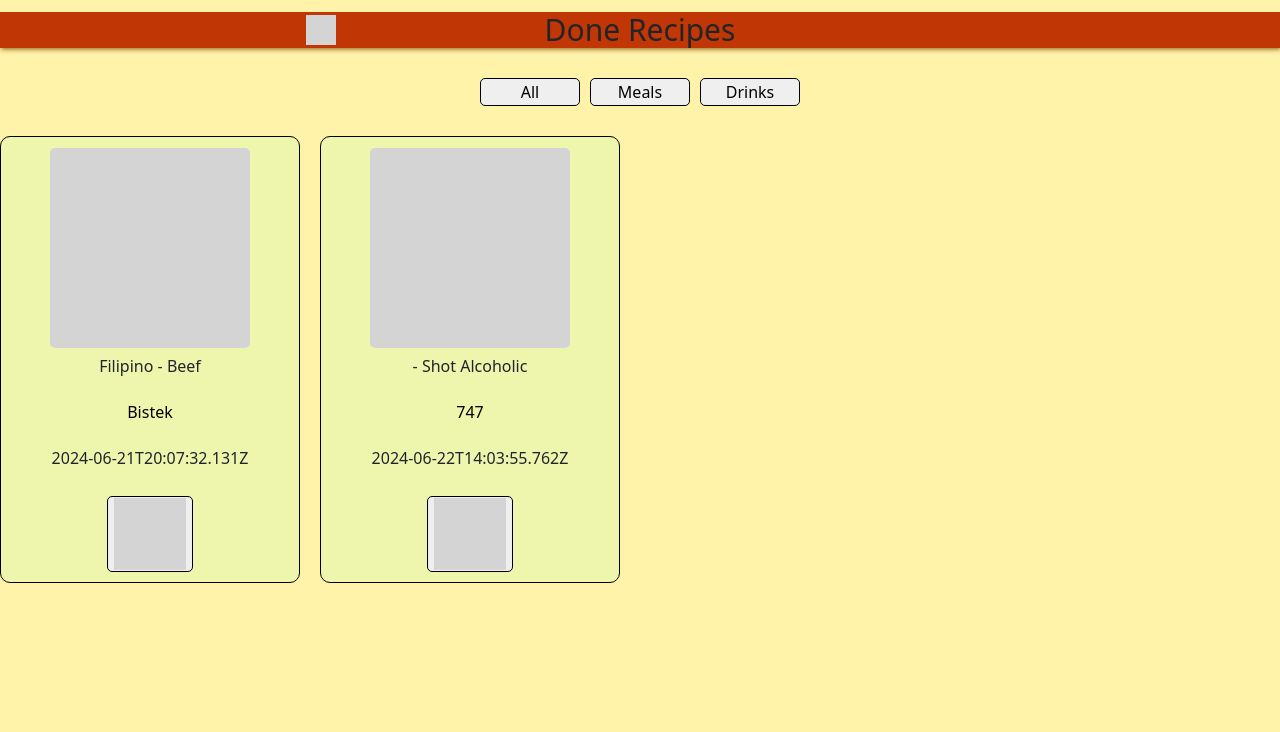
Scenario: Verifica a página Done Recipes › Verifica o botão de filtro "Drinks"
Click the button "Drinks": (750, 92) [700,78,800,106]
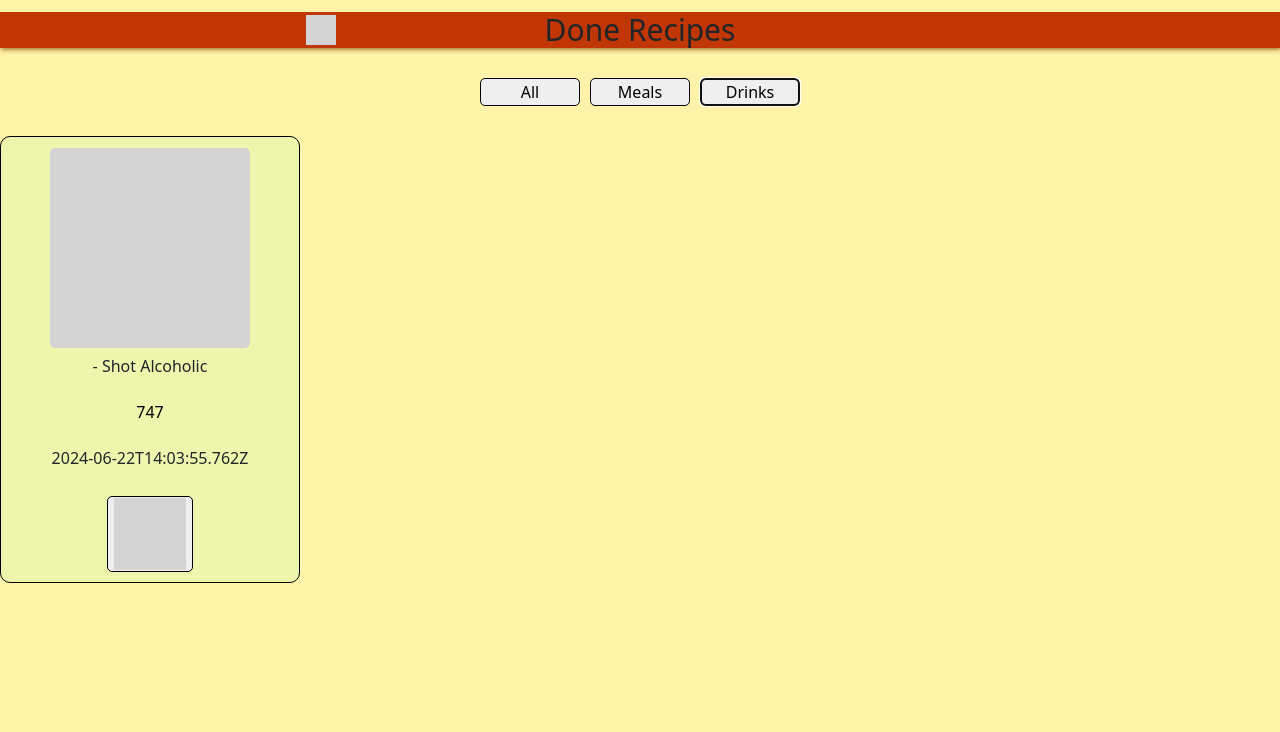
Result: the text with test id "0-horizontal-name" reads "747" at [136,401,164,423]
